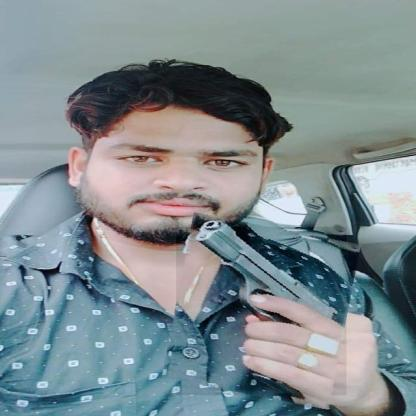handgun: (169, 220, 354, 402)
